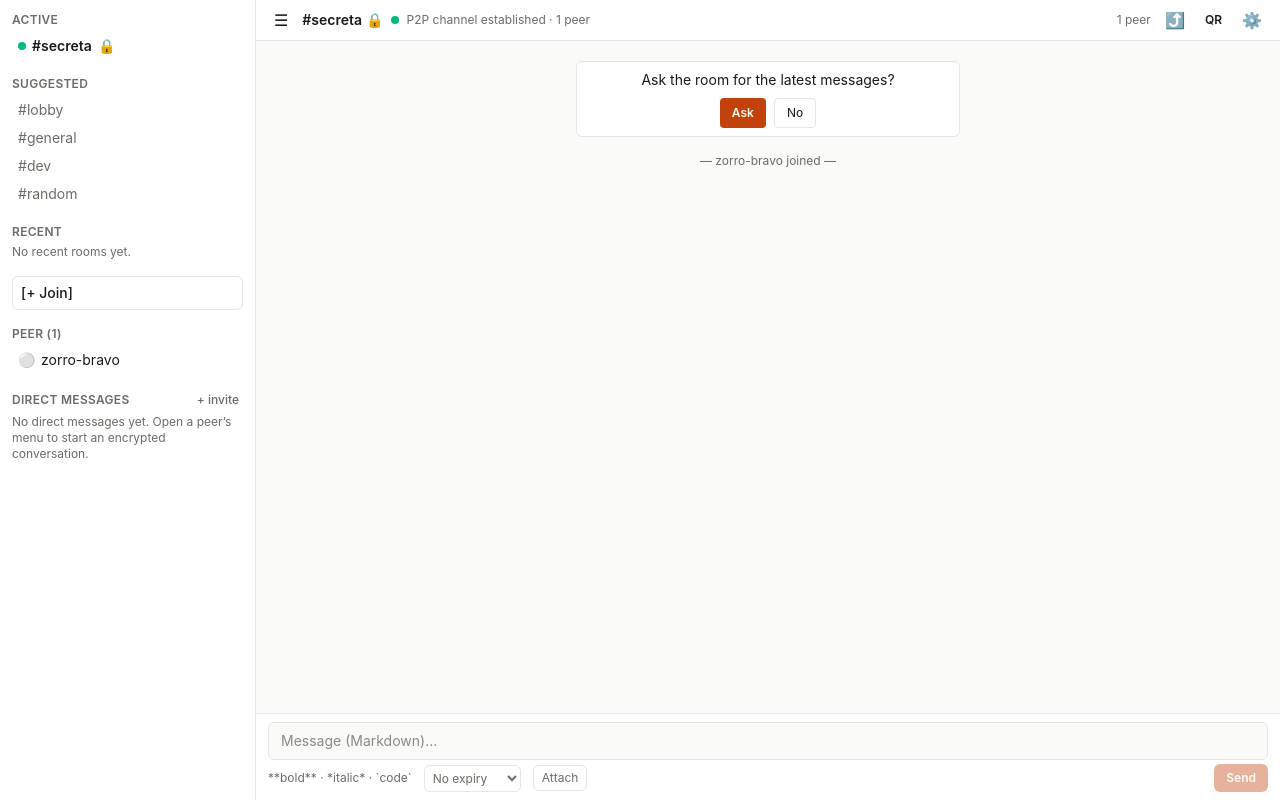
Test: pre-send dialog (issue #103 phase 4) › a password room announces the room-key notice instead of the warning
Click the button with aria-label "Attach a file" at x=560, y=778, box [533, 765, 587, 791]
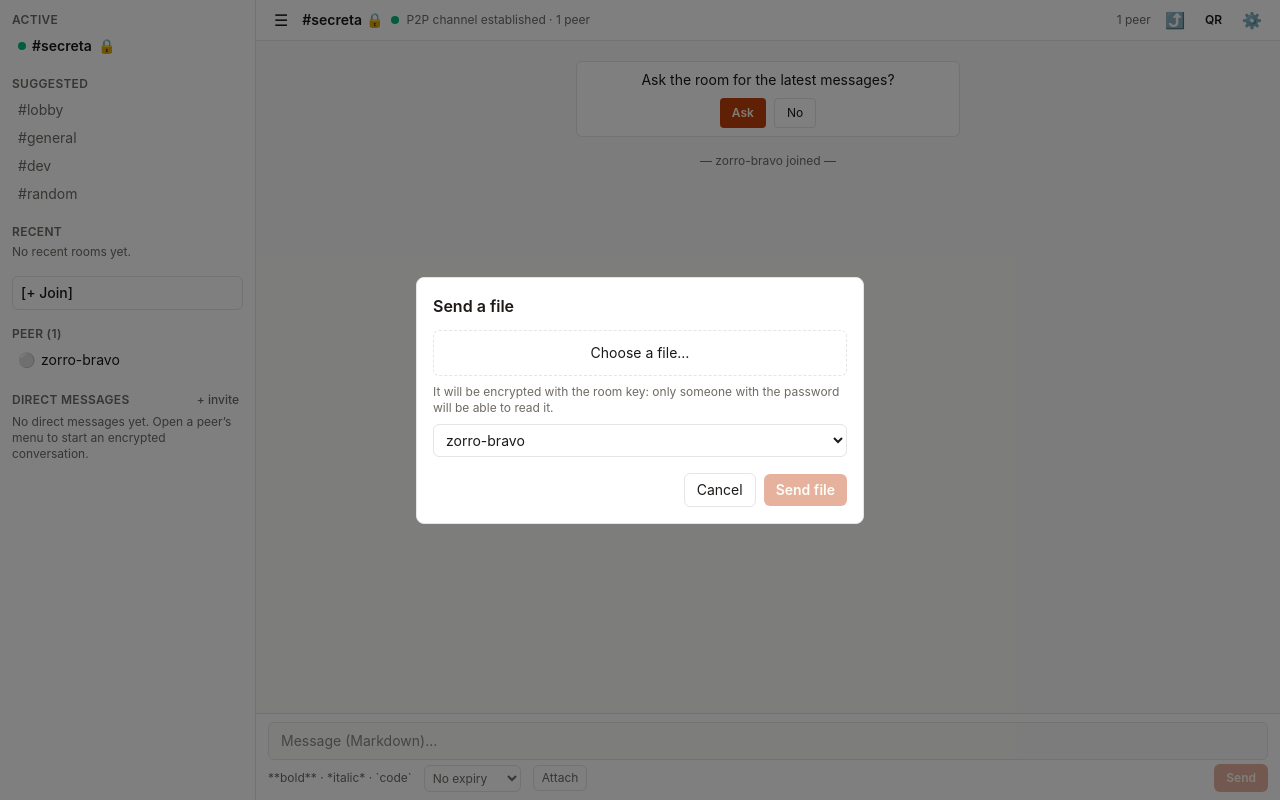
expect the text "It will be encrypted with the room key: only someone with the password will be able to read it." is shown: met, box [433, 384, 839, 414]
